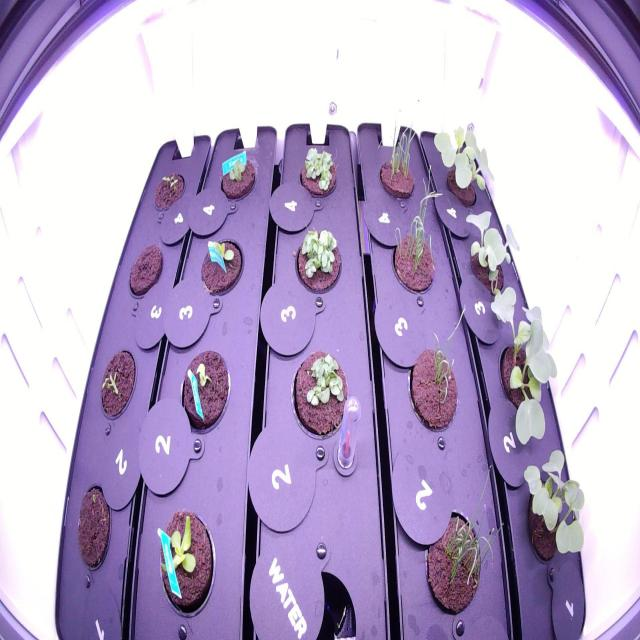germination: (411, 461, 506, 630), (401, 301, 475, 446), (381, 156, 447, 305), (286, 341, 352, 446), (173, 343, 238, 448), (372, 106, 420, 209), (191, 229, 248, 307), (291, 222, 347, 296), (95, 344, 140, 426), (294, 142, 341, 200), (148, 160, 189, 217)
pod: (70, 479, 116, 584), (124, 236, 166, 306)
young: (149, 502, 223, 624), (214, 152, 260, 206)
